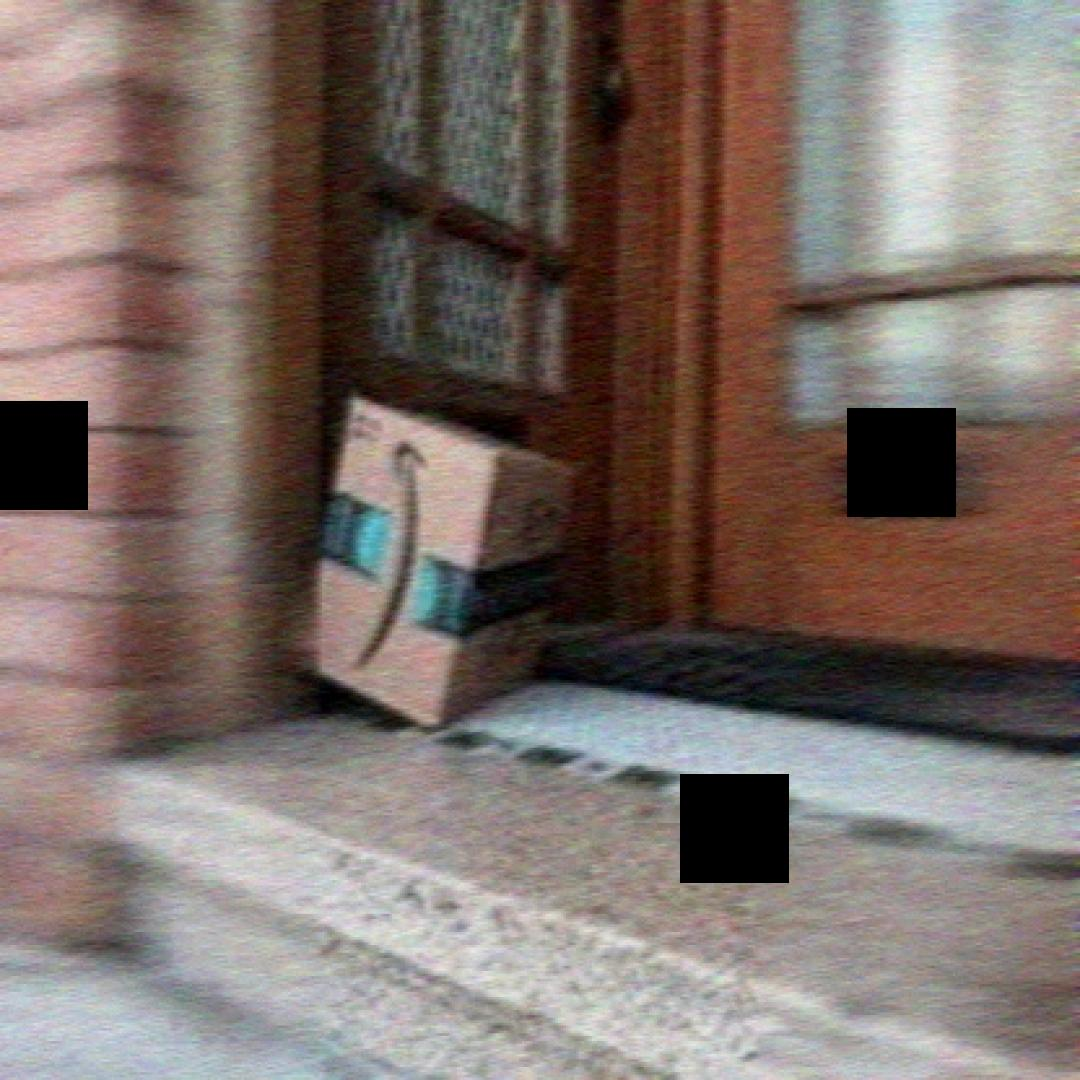package: (288, 379, 592, 769)
